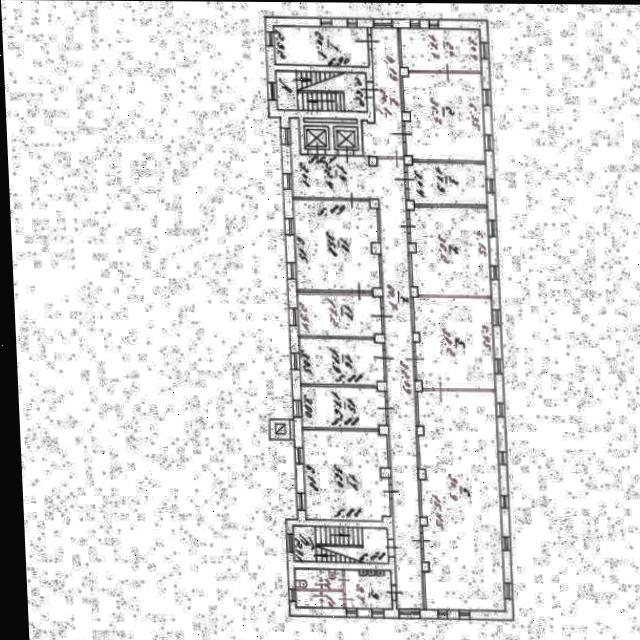room: (289, 114, 423, 615), (416, 388, 504, 615), (302, 427, 390, 525), (293, 197, 380, 294), (413, 294, 494, 393), (409, 204, 490, 300), (402, 71, 484, 165), (357, 27, 403, 159), (298, 339, 385, 386), (296, 293, 382, 338), (272, 27, 369, 66), (300, 387, 387, 429), (406, 163, 488, 206), (399, 29, 482, 71), (276, 73, 367, 111), (293, 528, 389, 563), (344, 571, 392, 609), (296, 592, 343, 608), (304, 127, 329, 149), (334, 128, 358, 150), (294, 570, 320, 589), (320, 570, 343, 589)
